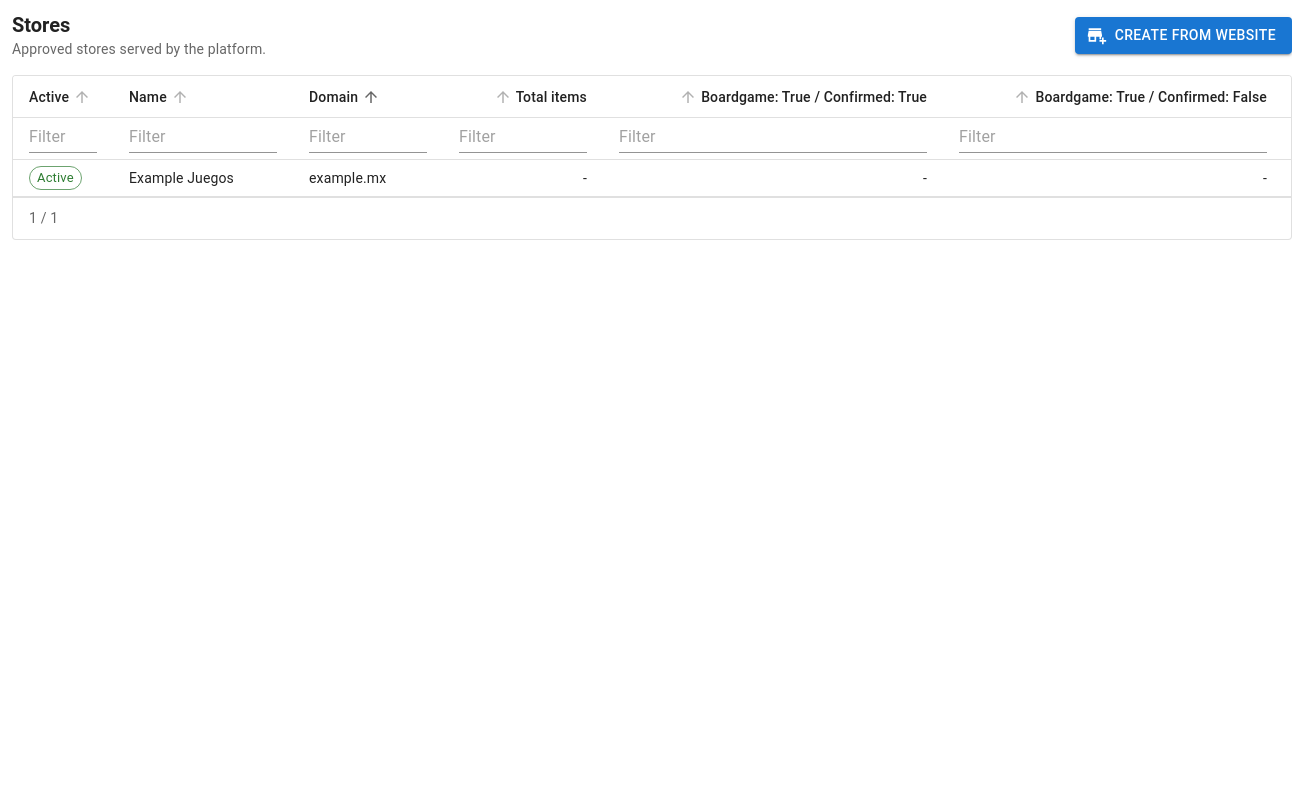
Test case: StoresPage › displays zero counts when the existing store has no items
Double-click the text "Example Juegos" at (203,178), box [113,160,293,197]
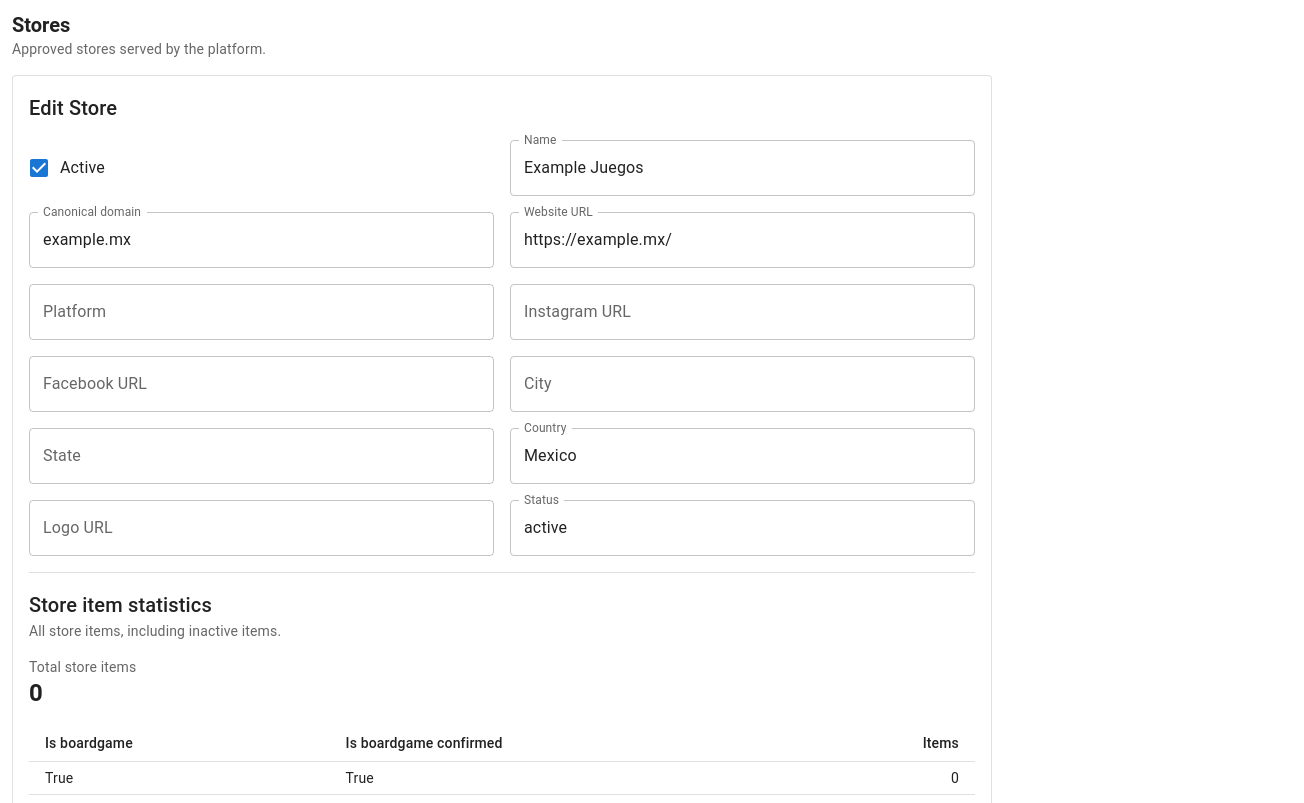
Result: the text "0" is shown 8 times
